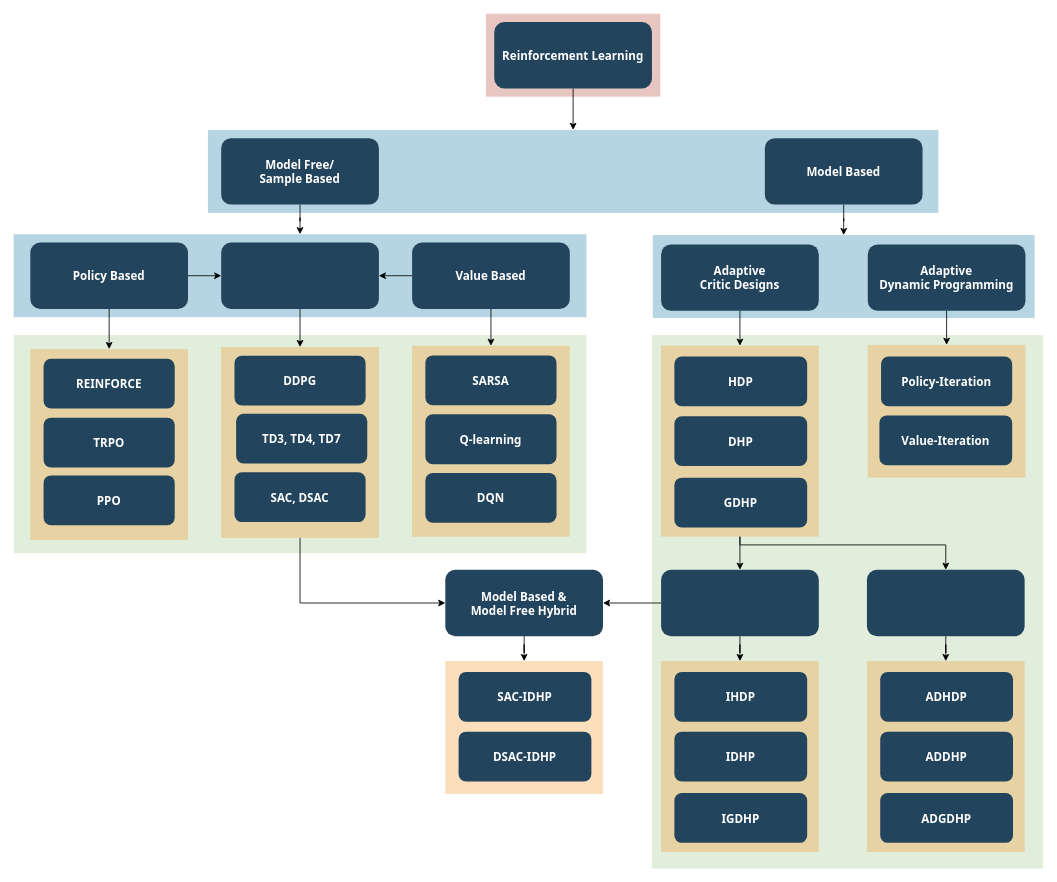
Image size: 1057x882. Some labels were removed from this diagram. The box of each missing label's shape, as (x1, y1, x2, y2) in pixels:
Action Depended ACD: (867, 569, 1024, 636)
Actor Critic: (221, 242, 378, 309)
Incremental ACD: (661, 569, 818, 636)
